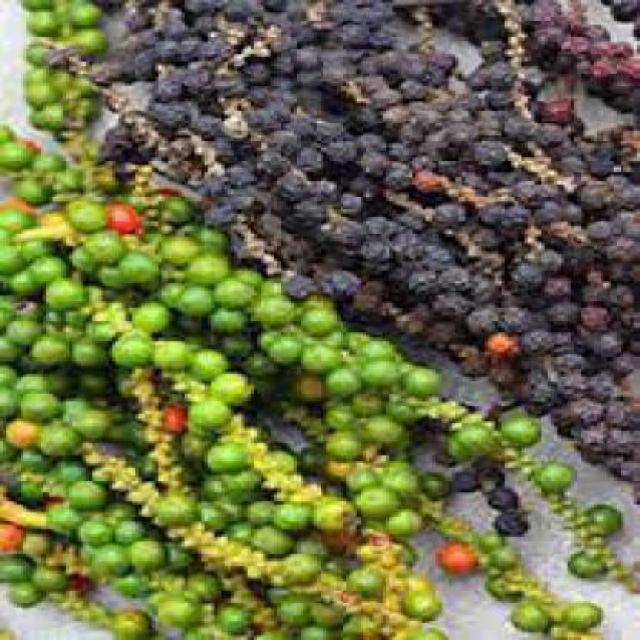UNRIPE: (0, 345, 377, 557)
